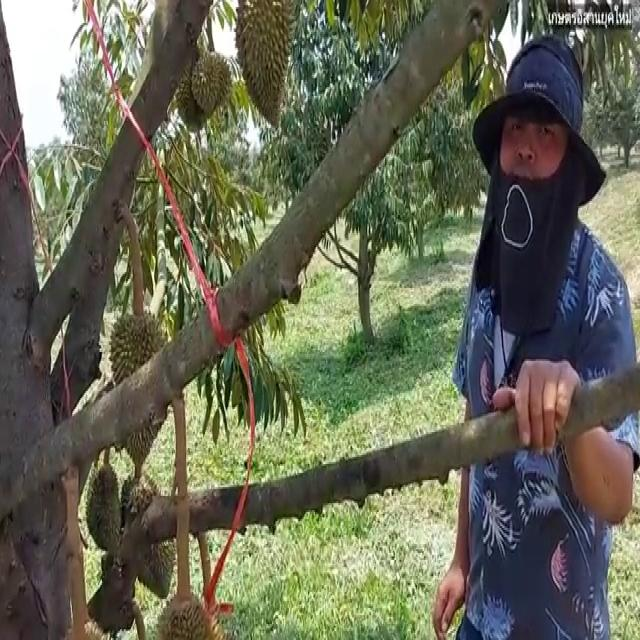durian: (106, 304, 174, 478), (234, 2, 301, 135), (116, 466, 177, 604), (84, 459, 128, 555), (170, 58, 224, 132), (152, 586, 228, 638), (189, 50, 234, 112)
